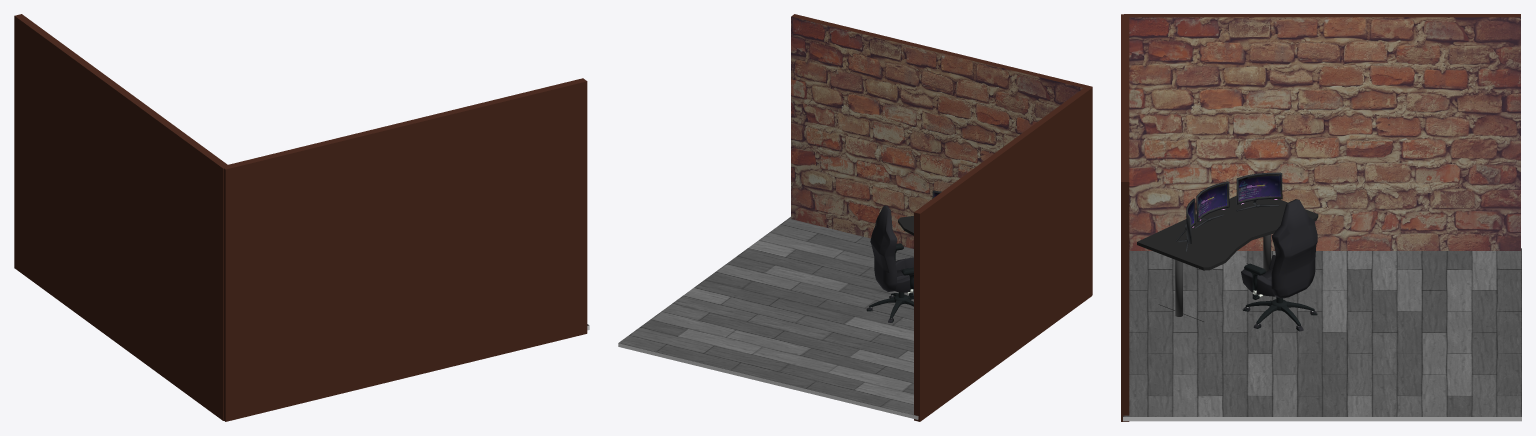
The model's file is Bedroom.gltf.
The picture shows the model from 3 angles, left to right: view 1: azimuth 30°, elevation 25°; view 2: azimuth 150°, elevation 25°; view 3: azimuth 270°, elevation 25°; orthographic projection. The views are drawn at different scales.
Visible parts, largest first — view 1: Cube.001, Cube.002; view 2: Cube.001, Cube.002, Cube, Mettalique.002; view 3: Cube.002, Cube, gamingTable, Mettalique.002, Cube.001, Screen.001, Screen, Screen.002.
Part boxes in pixels (box(x1,y1,x2,y2)): Cube.001: box(224, 78, 587, 421); Cube.002: box(14, 14, 230, 420); Cube.001: box(791, 14, 1092, 294); Cube.002: box(914, 86, 1092, 421); Cube: box(618, 217, 918, 419); Mettalique.002: box(866, 205, 913, 322); Cube.002: box(1124, 14, 1520, 250); Cube: box(1123, 248, 1521, 421); gamingTable: box(1137, 195, 1318, 321); Mettalique.002: box(1241, 199, 1317, 331); Cube.001: box(1121, 14, 1129, 421); Screen.001: box(1236, 172, 1282, 211); Screen: box(1194, 181, 1229, 228); Screen.002: box(1175, 198, 1195, 251).
Bounding box in the file's own units: 11.64 × 7.68 × 11.63.
25 materials, 8 textured.
